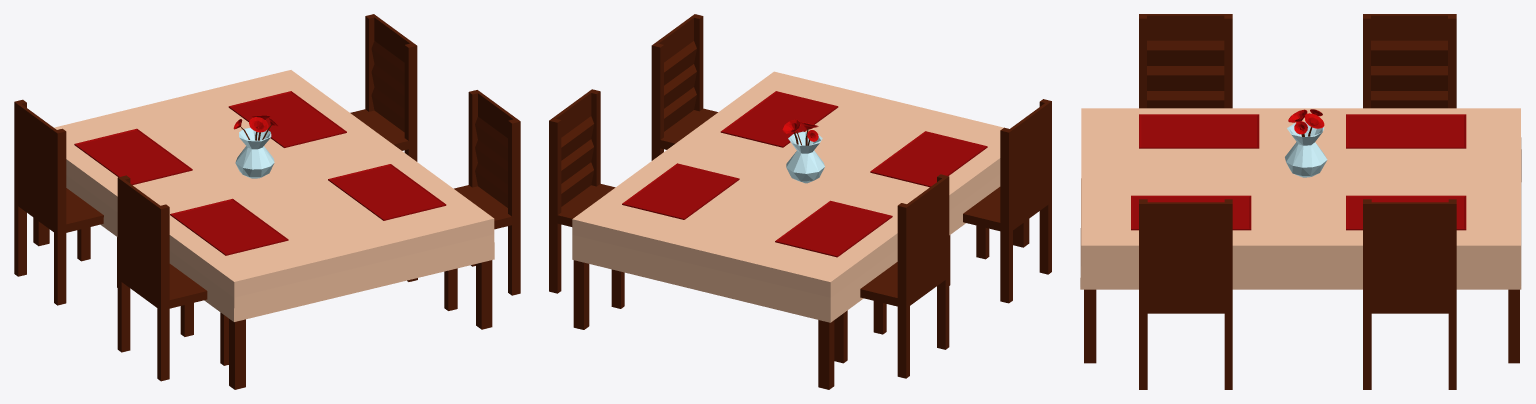
The model's file is MesaLiving.fbx.
The picture shows the model from 3 angles, left to right: view 1: azimuth 30°, elevation 25°; view 2: azimuth 150°, elevation 25°; view 3: azimuth 270°, elevation 25°; orthographic projection. The views are drawn at different scales.
Visible parts, largest first — view 1: Mesa, Individuales, Silla02, Silla03, silla04, Silla, Florero; view 2: Mesa, Individuales, Silla03, Silla02, Silla, silla04, Florero; view 3: Mesa, Silla, silla04, Individuales, Silla03, Silla02, Florero.
Boxes of the visible parts, left/top/right/bottom form: Mesa: left=33, top=70, right=494, bottom=389; Individuales: left=74, top=91, right=446, bottom=255; Silla02: left=117, top=175, right=228, bottom=381; Silla03: left=14, top=99, right=117, bottom=305; silla04: left=407, top=90, right=520, bottom=310; Silla: left=350, top=14, right=417, bottom=161; Florero: left=233, top=115, right=278, bottom=178; Mesa: left=572, top=71, right=1029, bottom=389; Individuales: left=622, top=91, right=987, bottom=257; Silla03: left=834, top=174, right=949, bottom=378; Silla02: left=949, top=99, right=1051, bottom=303; Silla: left=549, top=89, right=624, bottom=308; silla04: left=651, top=14, right=717, bottom=160; Florero: left=782, top=119, right=824, bottom=183; Mesa: left=1080, top=108, right=1521, bottom=363; Silla: left=1363, top=199, right=1456, bottom=389; silla04: left=1139, top=199, right=1232, bottom=389; Individuales: left=1131, top=114, right=1466, bottom=230; Silla03: left=1363, top=14, right=1456, bottom=108; Silla02: left=1139, top=14, right=1232, bottom=108; Florero: left=1285, top=109, right=1327, bottom=177.
Size of the model in its own units: 1958 by 904 by 1923.
